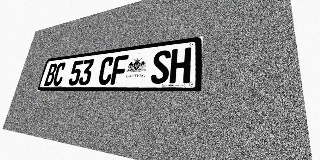3: (78, 59, 94, 85)
5: (68, 60, 84, 85)
B: (44, 63, 58, 86)
C: (97, 56, 115, 85), (52, 62, 67, 86)
F: (110, 55, 129, 85)
H: (169, 47, 191, 84)
S: (150, 50, 171, 84)
